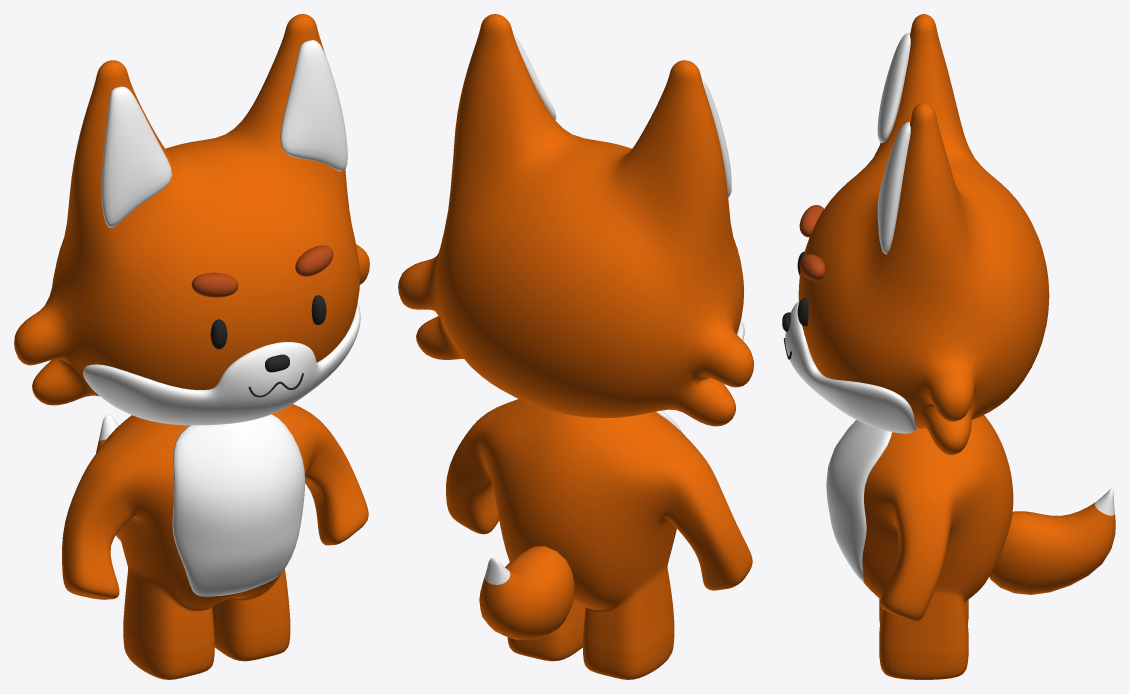
The model's file is Chara FoxV2 Fusion Mesh.gltf.
3 views of the same model, side by side, from view 1: azimuth 30°, elevation 25°; view 2: azimuth 150°, elevation 25°; view 3: azimuth 270°, elevation 25° (orthographic). The views are drawn at different scales.
Visible parts, largest first — view 1: Cube, Cube.001, Cube.004, Cube.003, Cube.002, Cube.006, Cube.005; view 2: Cube, Cube.001, Cube.008, Cube.003; view 3: Cube, Cube.001, Cube.008, Cube.004, Cube.002, Cube.003, Cube.006.
Boxes of the visible parts, x1,y1,x2,y2 form: Cube: (14,14,369,405); Cube.001: (62,404,368,679); Cube.004: (172,414,305,596); Cube.003: (101,40,347,227); Cube.002: (83,303,360,425); Cube.006: (191,245,333,297); Cube.005: (210,295,326,349); Cube: (398,14,753,426); Cube.001: (446,399,752,679); Cube.008: (479,546,574,639); Cube.003: (513,34,731,197); Cube: (798,14,1049,454); Cube.001: (862,415,1013,679); Cube.008: (989,488,1115,594); Cube.004: (826,420,891,581); Cube.002: (785,301,916,433); Cube.003: (877,33,910,254); Cube.006: (799,205,825,280).
Bounding box in the file's own units: 2.48 × 4.16 × 2.13.
